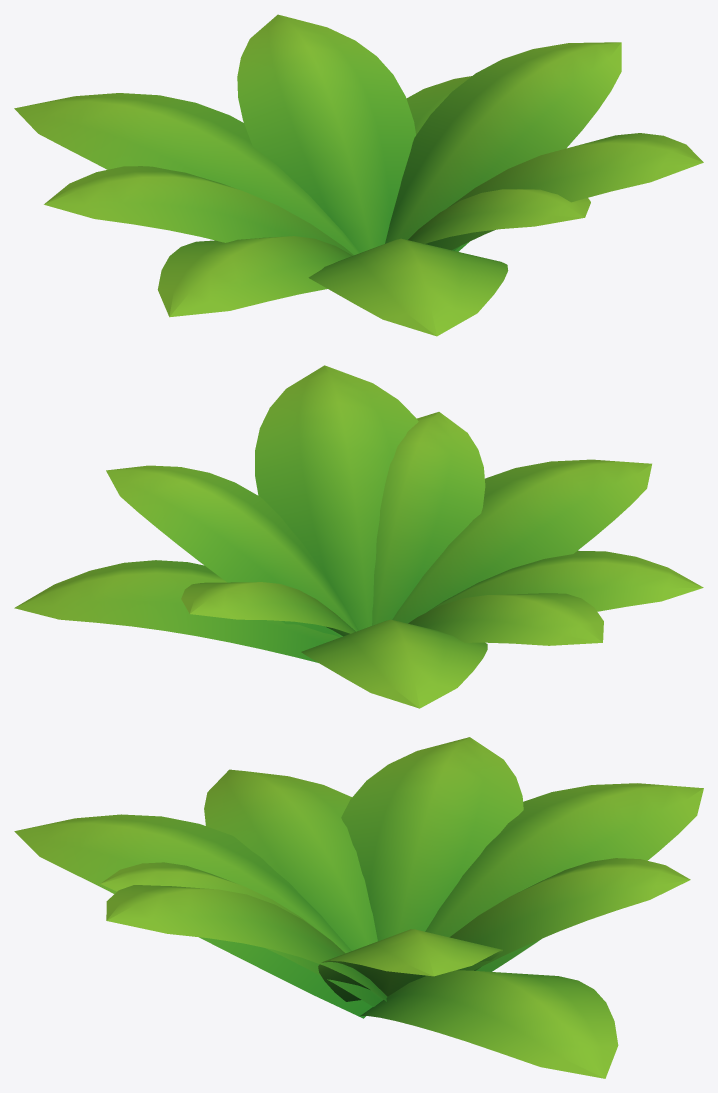
The model's file is plant_broadleaf_b.glb.
The picture shows the model from 3 angles, top to bottom: view 1: azimuth 30°, elevation 25°; view 2: azimuth 150°, elevation 25°; view 3: azimuth 270°, elevation 25°; orthographic projection. The views are drawn at different scales.
Visible parts, largest first — view 1: plant_broadleaf_b; view 2: plant_broadleaf_b; view 3: plant_broadleaf_b.
Part boxes in pixels (<box>): plant_broadleaf_b: <box>14,14,703,336</box>; plant_broadleaf_b: <box>14,365,703,708</box>; plant_broadleaf_b: <box>14,737,703,1078</box>.
Size of the model in its own units: 2.03 by 0.6113 by 2.07.
